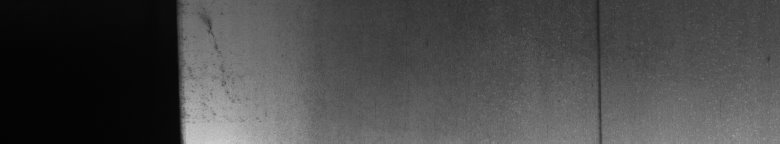hd: (592, 4, 604, 136)
